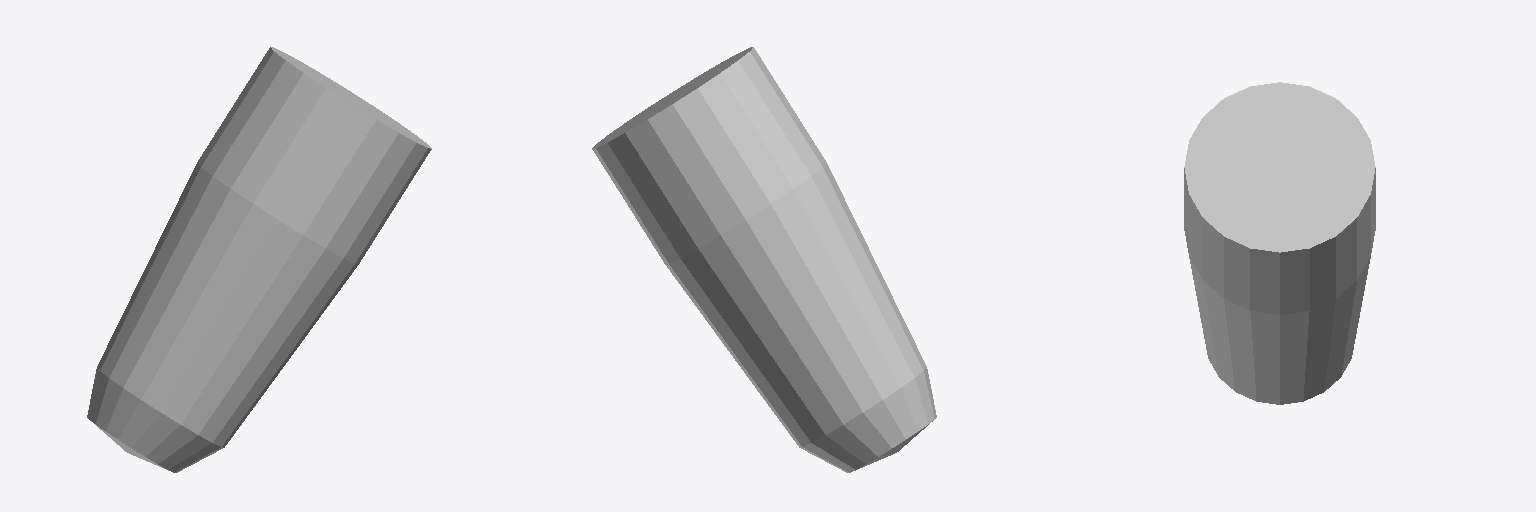
Rendered from player_Rarm.obj.
3 views of the same model, side by side, from view 1: azimuth 30°, elevation 25°; view 2: azimuth 150°, elevation 25°; view 3: azimuth 270°, elevation 25° (orthographic).
Visible parts, largest first — view 1: pCylinder3 group2; view 2: pCylinder3 group2; view 3: pCylinder3 group2.
Part boxes in pixels (x1,y1,x2,y2): pCylinder3 group2: (87, 47, 431, 472); pCylinder3 group2: (592, 47, 936, 472); pCylinder3 group2: (1184, 82, 1375, 404).
Bounding box in the file's own units: 1.46 × 1.63 × 0.7527.